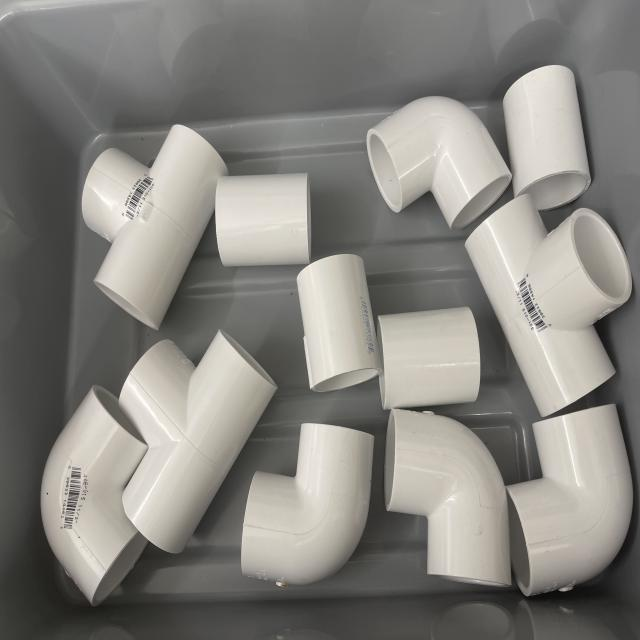L Joint: (385, 409, 528, 592), (507, 405, 633, 600), (39, 386, 148, 608), (241, 424, 378, 588), (364, 96, 512, 231)
T Joint: (464, 194, 632, 415), (119, 330, 278, 557), (80, 125, 229, 331)
